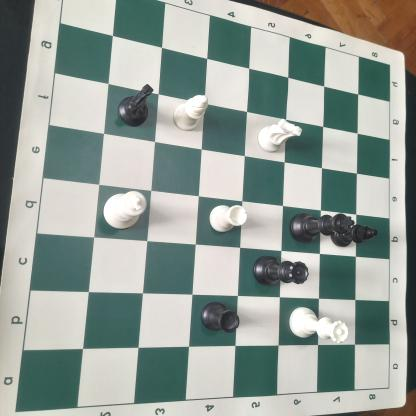black-bishop: (328, 221, 379, 248)
black-king: (288, 210, 354, 243)
black-knight: (117, 82, 156, 128)
black-queen: (252, 253, 314, 288)
black-rook: (200, 300, 240, 334)
white-bishop: (170, 92, 212, 133)
white-king: (100, 188, 149, 232)
white-knight: (257, 118, 304, 154)
white-queen: (288, 304, 352, 344)
white-rook: (208, 202, 248, 235)
